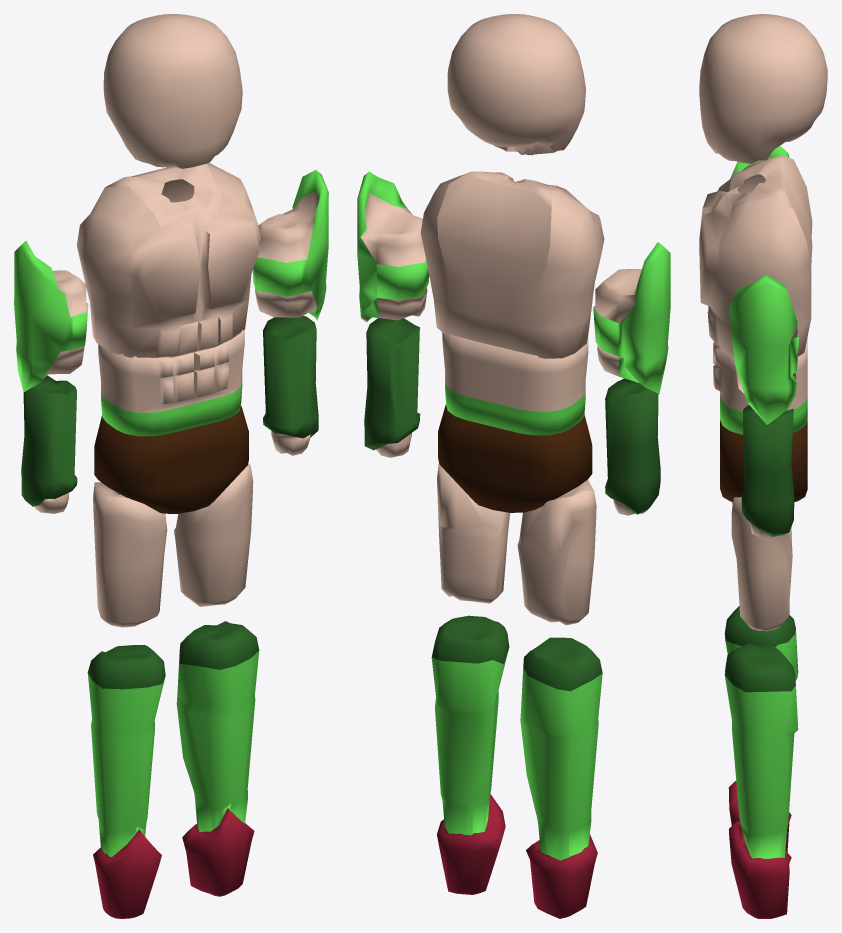
File: PersPartsPack1.fbx
The picture shows the model from 3 angles, left to right: view 1: azimuth 30°, elevation 25°; view 2: azimuth 150°, elevation 25°; view 3: azimuth 270°, elevation 25°; orthographic projection.
Parts seen in each view (by area): view 1: Igor_Torso.003, LeftSubLeg.002, FaceSphere_Round, LeftSubLeg.001, IgorBody.003, Hips, LeftLeg.004, LeftSholder.005, LeftSholder.004, LeftLeg.015, LeftArm.005, LeftArm.004; view 2: Igor_Torso.003, LeftSubLeg.001, LeftSubLeg.002, FaceSphere_Round, IgorBody.003, Hips, LeftLeg.004, LeftSholder.005, LeftSholder.004, LeftLeg.015, LeftArm.005, LeftArm.004; view 3: LeftSubLeg.002, FaceSphere_Round, Igor_Torso.003, LeftSholder.005, LeftArm.005, LeftLeg.015, IgorBody.003, Hips, LeftSubLeg.001, LeftSholder.004.
Part boxes in pixels (x1,y1,x2,y2): Igor_Torso.003: (77,162,260,357); LeftSubLeg.002: (176,621,259,896); FaceSphere_Round: (103,14,242,168); LeftSubLeg.001: (87,645,165,918); IgorBody.003: (98,330,244,436); Hips: (94,405,248,513); LeftLeg.004: (93,482,167,627); LeftSholder.005: (252,170,328,320); LeftSholder.004: (14,241,88,391); LeftLeg.015: (174,463,253,606); LeftArm.005: (263,316,318,455); LeftArm.004: (21,375,77,513); Igor_Torso.003: (420,171,604,358); LeftSubLeg.001: (520,637,602,918); LeftSubLeg.002: (431,615,509,894); FaceSphere_Round: (447,14,585,155); IgorBody.003: (442,332,588,435); Hips: (438,405,592,512); LeftLeg.004: (517,479,596,625); LeftSholder.005: (357,171,429,322); LeftSholder.004: (593,242,670,393); LeftLeg.015: (437,463,509,603); LeftArm.005: (364,318,420,457); LeftArm.004: (605,378,660,515); LeftSubLeg.002: (724,644,798,918); FaceSphere_Round: (699,14,827,163); Igor_Torso.003: (699,155,812,356); LeftSholder.005: (729,274,798,424); LeftArm.005: (741,405,794,538); LeftLeg.015: (731,497,792,631); IgorBody.003: (713,337,807,434); Hips: (720,420,807,501); LeftSubLeg.001: (724,606,798,851); LeftSholder.004: (730,146,789,178).
Size of the model in its own units: 0.5981 by 1.69 by 0.2246.
